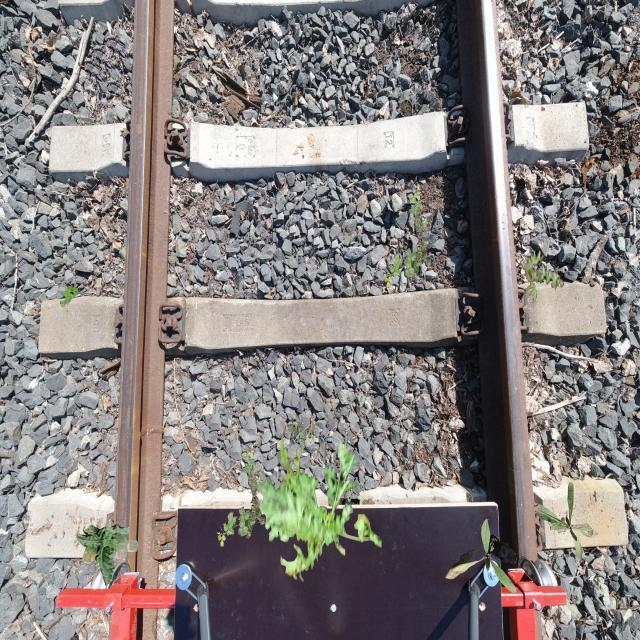Plant: (257, 435, 382, 582), (535, 482, 599, 566), (445, 519, 516, 594), (383, 184, 432, 288), (217, 443, 266, 546), (76, 524, 140, 586), (523, 250, 564, 304), (288, 419, 316, 449), (60, 283, 80, 308)
